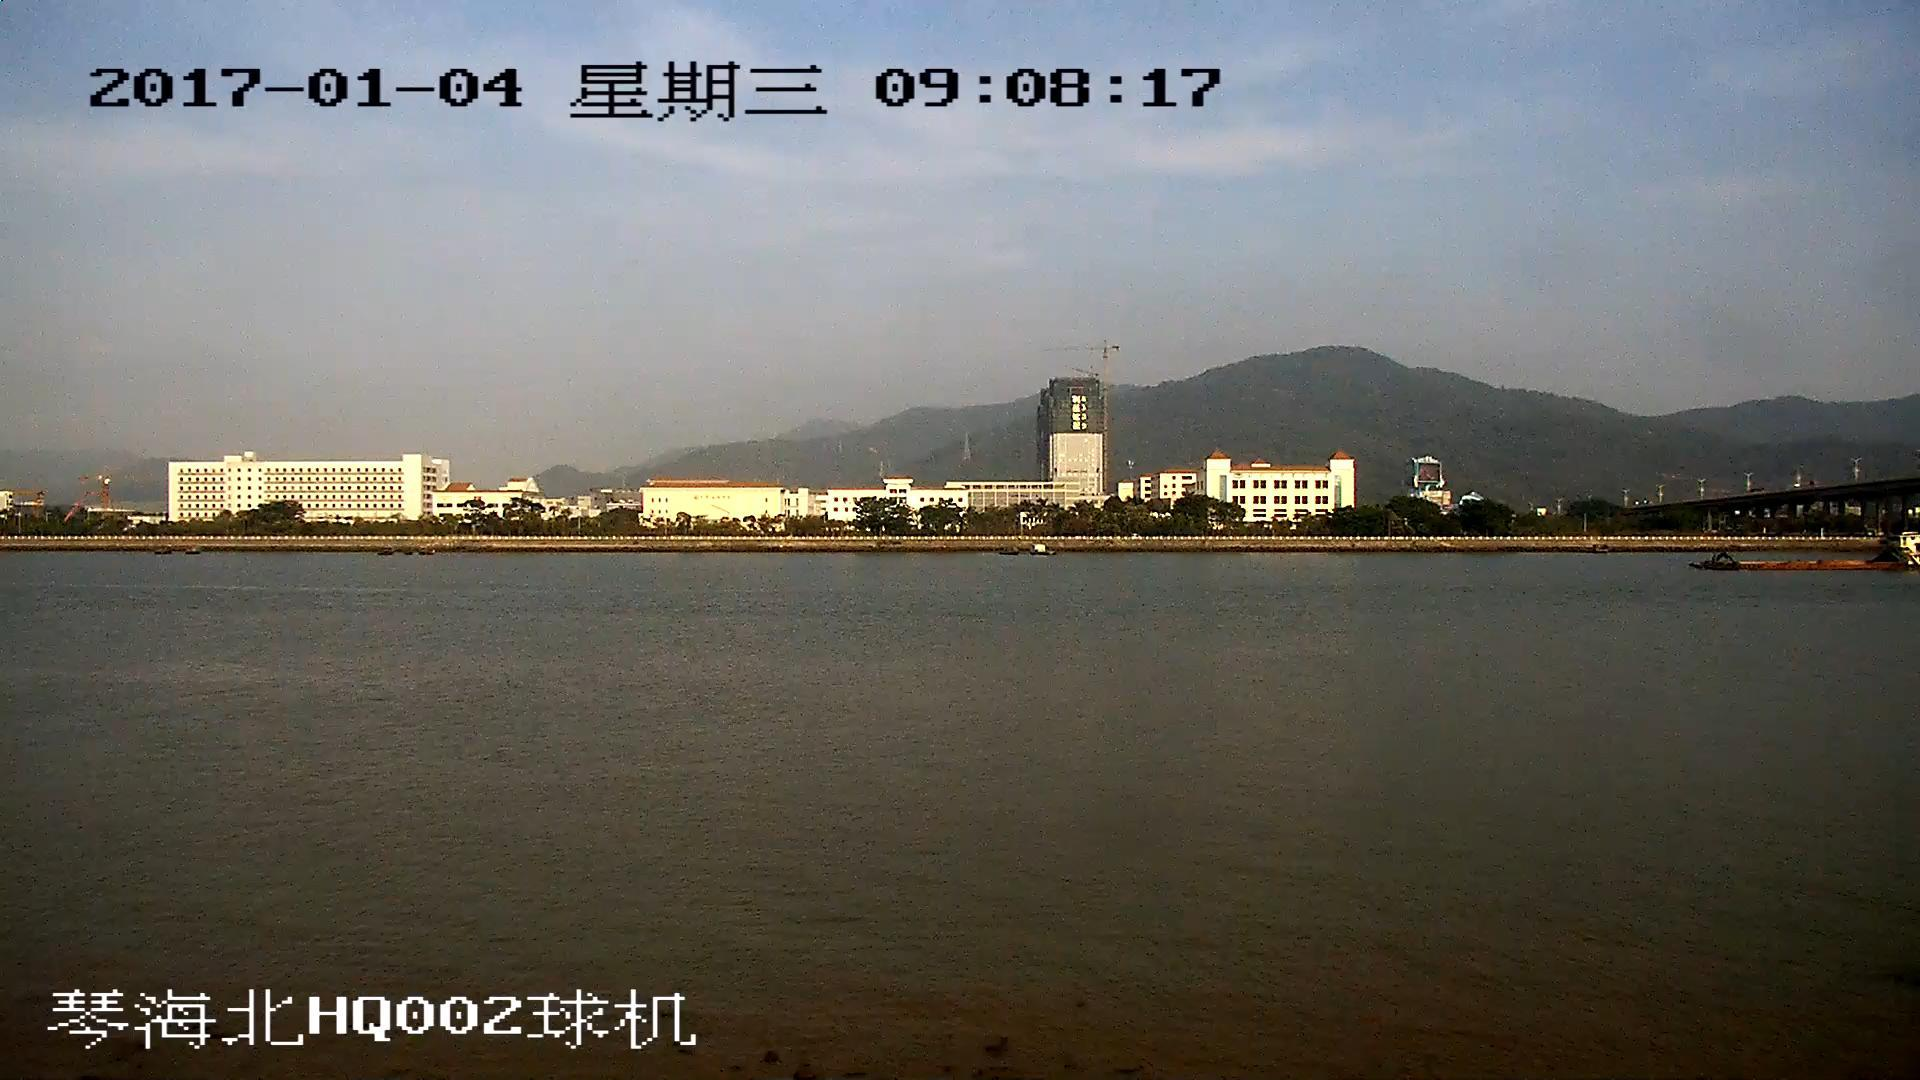Ship: (1692, 535, 1920, 572)
